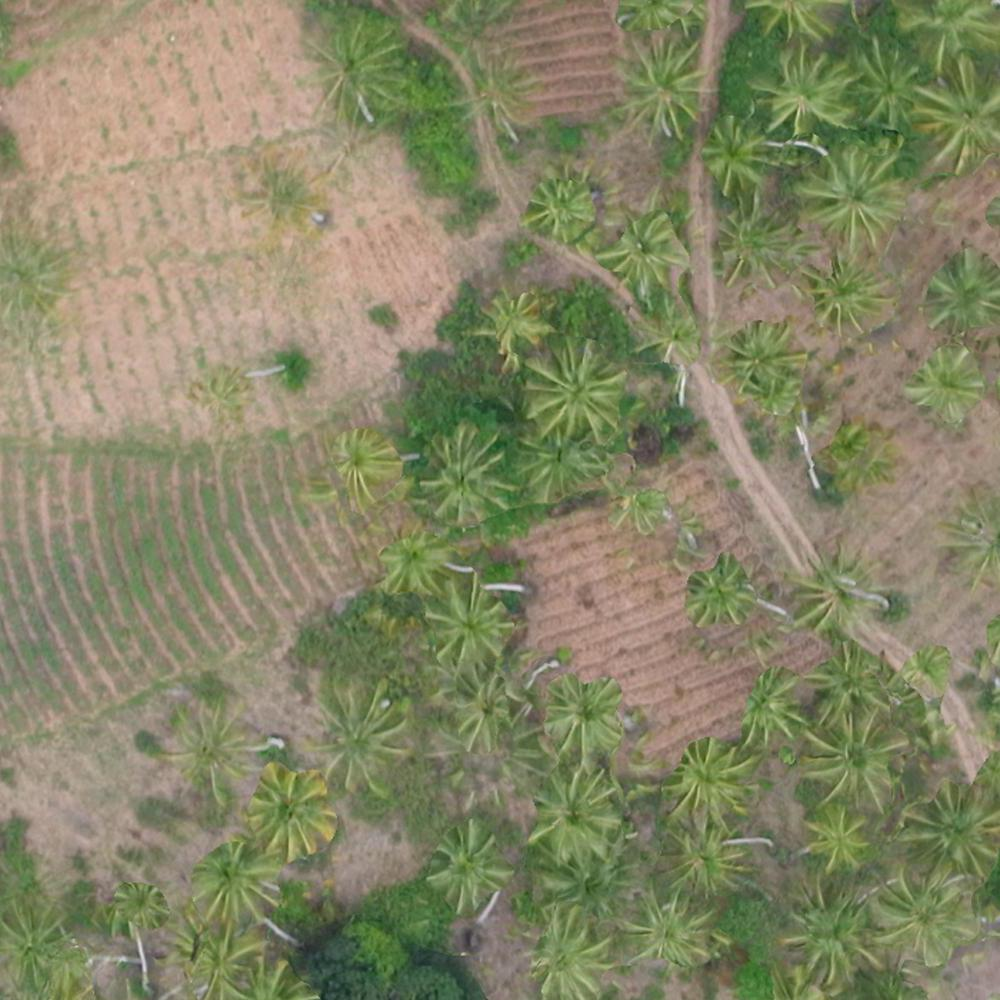Palm: (304, 684, 410, 790), (798, 143, 902, 249), (870, 866, 976, 962), (900, 781, 1000, 881), (526, 344, 626, 443), (801, 715, 899, 813), (784, 883, 882, 981), (912, 57, 1000, 166), (308, 26, 402, 121), (787, 542, 884, 634), (527, 772, 619, 868), (757, 43, 851, 136), (161, 705, 251, 800), (411, 431, 503, 522), (621, 886, 713, 975), (529, 911, 615, 1000), (616, 39, 698, 132), (662, 741, 753, 823), (247, 768, 334, 852), (545, 679, 629, 764), (428, 584, 512, 665), (810, 640, 890, 724), (844, 39, 921, 125), (664, 821, 751, 896), (725, 324, 803, 406), (802, 258, 883, 336), (428, 829, 505, 911), (195, 847, 277, 923), (329, 431, 408, 509), (714, 202, 786, 286), (602, 211, 681, 285), (443, 677, 519, 748), (931, 247, 996, 328), (701, 117, 772, 191), (378, 528, 451, 598), (911, 351, 979, 426), (801, 806, 871, 872), (524, 179, 595, 244), (685, 557, 752, 624)
